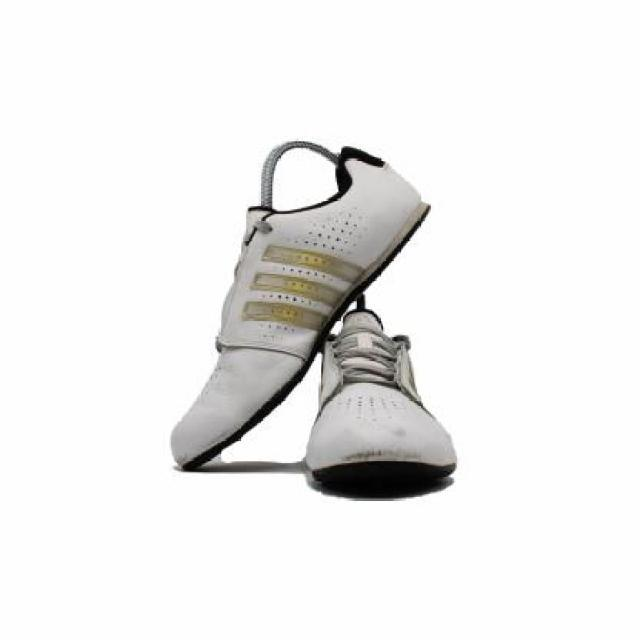Adidas: (238, 237, 367, 345)
